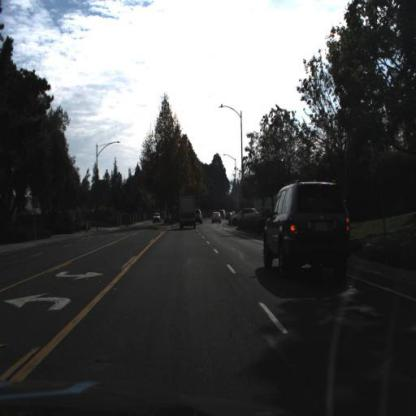car: (263, 177, 352, 282), (177, 192, 200, 236), (230, 206, 258, 228), (228, 207, 257, 228), (210, 210, 223, 228)
truck: (178, 192, 200, 234)
